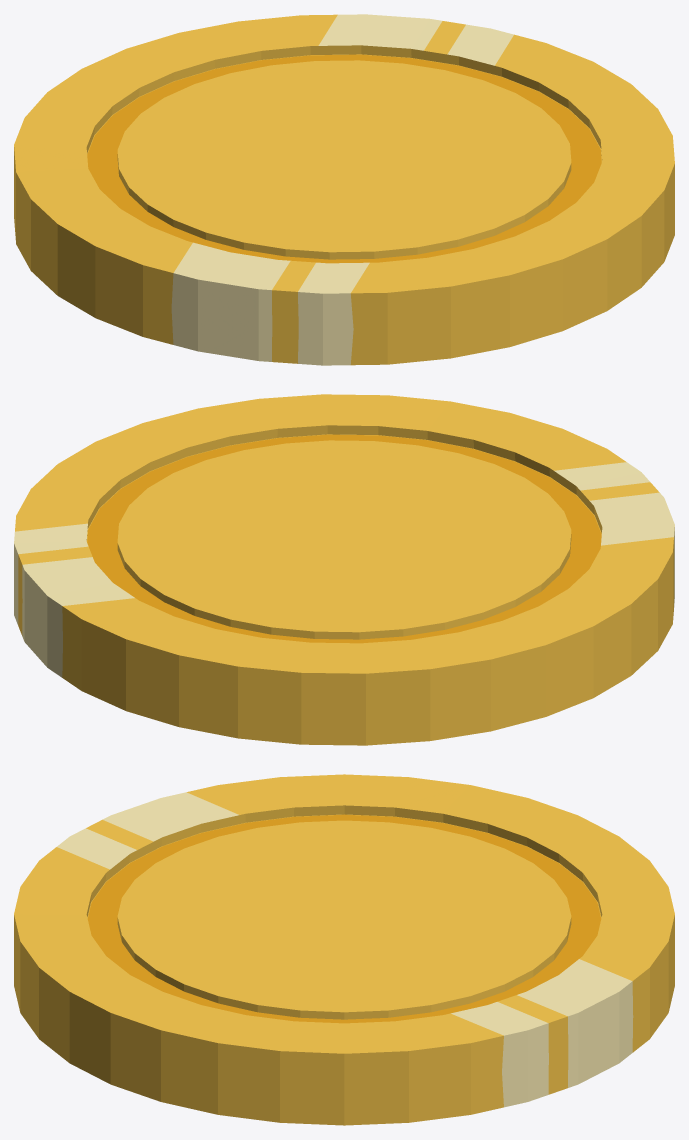
The model's file is coin.fbx.
3 renders of one model, top to bottom at view 1: azimuth 30°, elevation 25°; view 2: azimuth 150°, elevation 25°; view 3: azimuth 270°, elevation 25°, orthographic.
Visible parts, largest first — view 1: Cylinder; view 2: Cylinder; view 3: Cylinder.
Boxes of the visible parts, x1,y1,x2,y2 form: Cylinder: (14,14,674,365); Cylinder: (14,394,674,745); Cylinder: (14,774,674,1125).
Size of the model in its own units: 2.1 by 0.2517 by 2.1.
1 material, 1 textured.
